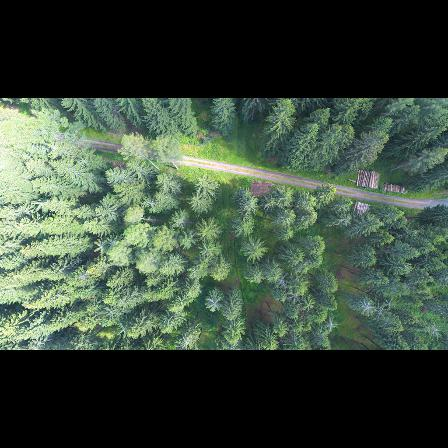Sick: (204, 293, 223, 312), (92, 238, 111, 256), (424, 322, 442, 340), (356, 299, 376, 315), (323, 318, 339, 331), (275, 274, 287, 291), (288, 290, 299, 303), (304, 300, 314, 311)
